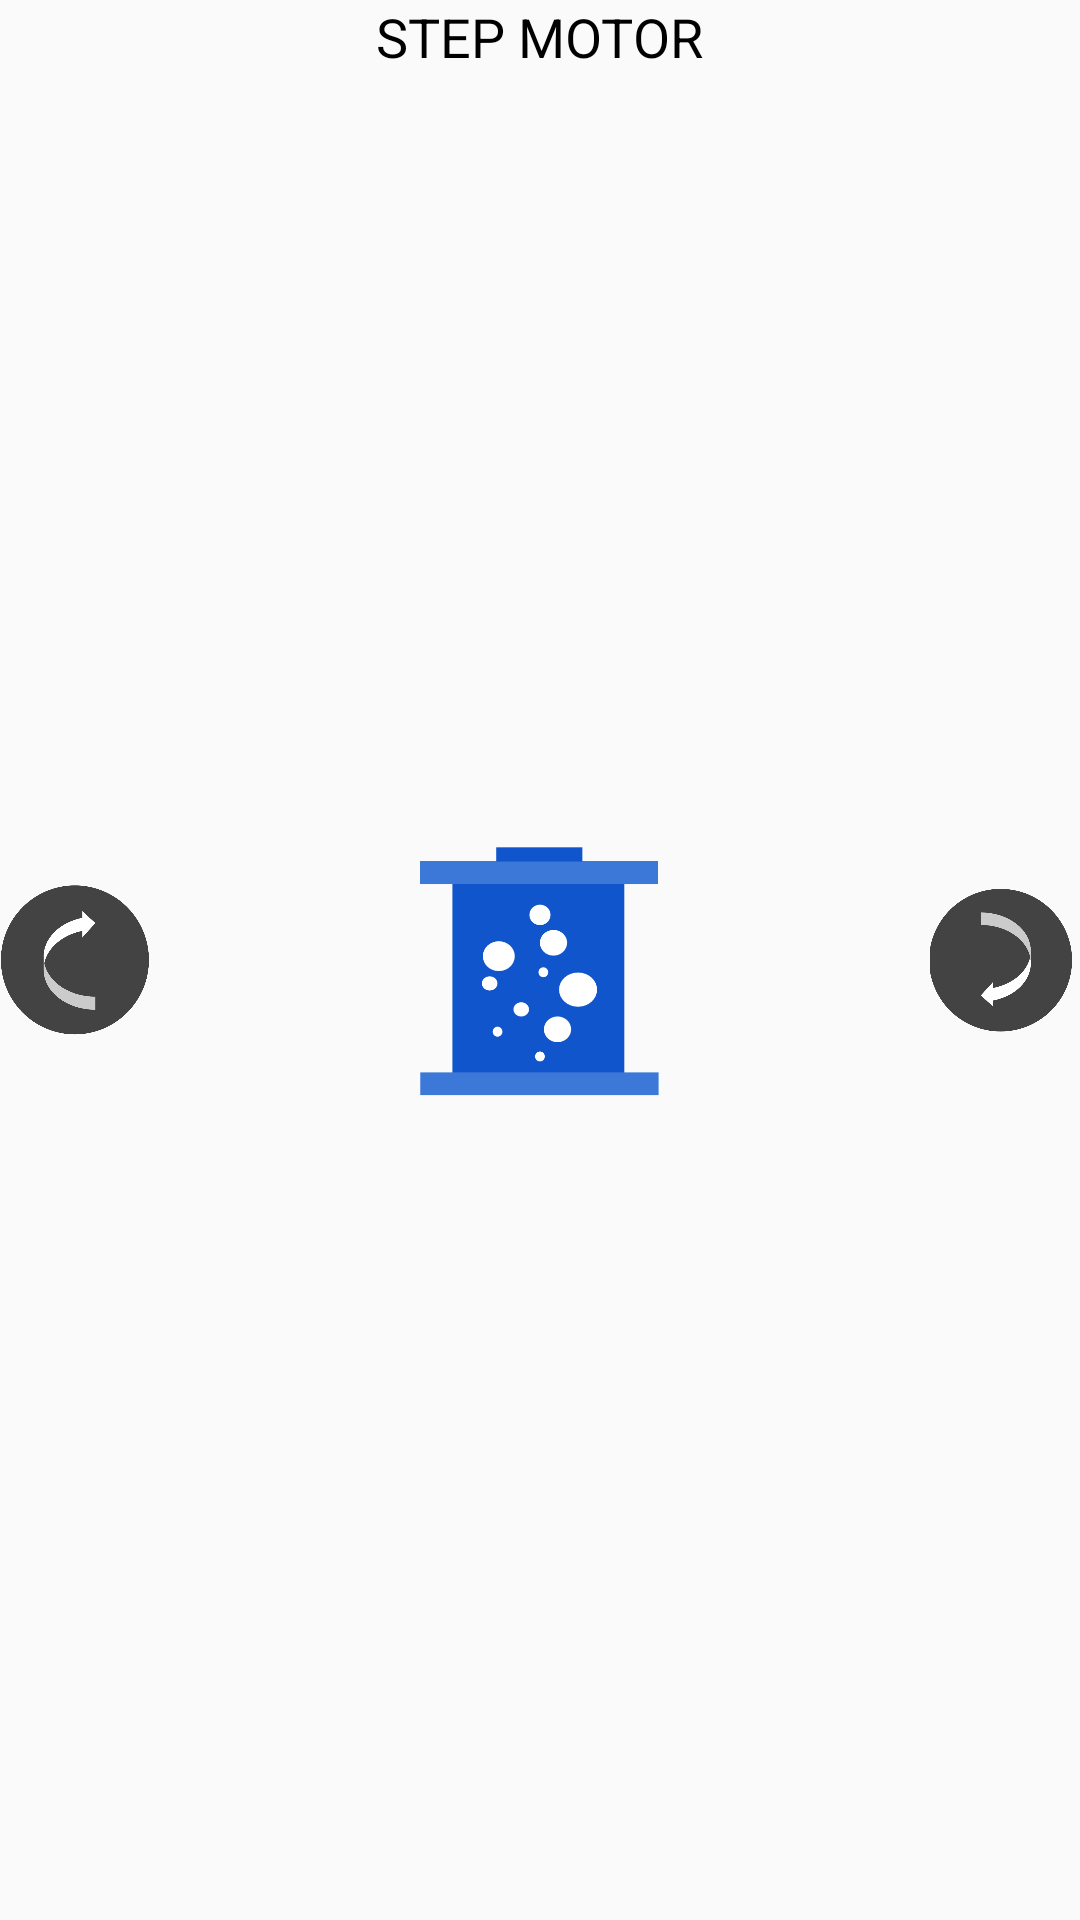

Screen size 1080px×1920px. Icon name, then its center in pixels as [x,y]:
flipdown: [1001,960]
flipup: [75,959]
